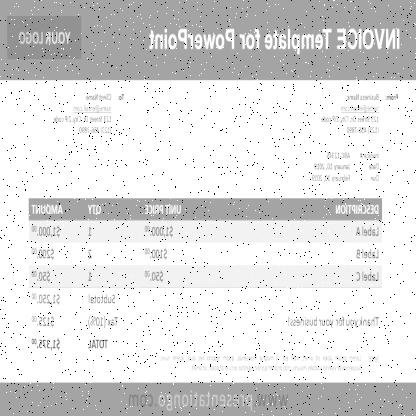Paragraph: (146, 22, 403, 60), (28, 291, 120, 355), (158, 348, 382, 374), (127, 388, 291, 414), (320, 90, 401, 138), (51, 89, 126, 138), (310, 148, 382, 186), (286, 314, 382, 332)
Table: (29, 198, 382, 288)
